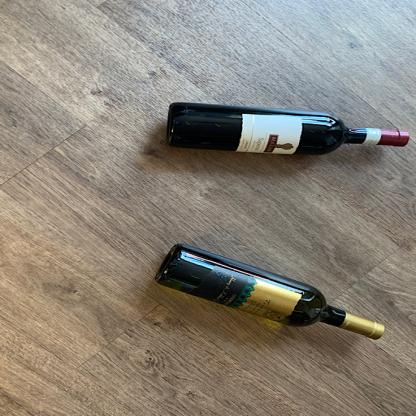trash: (148, 238, 389, 344), (158, 92, 413, 168)
